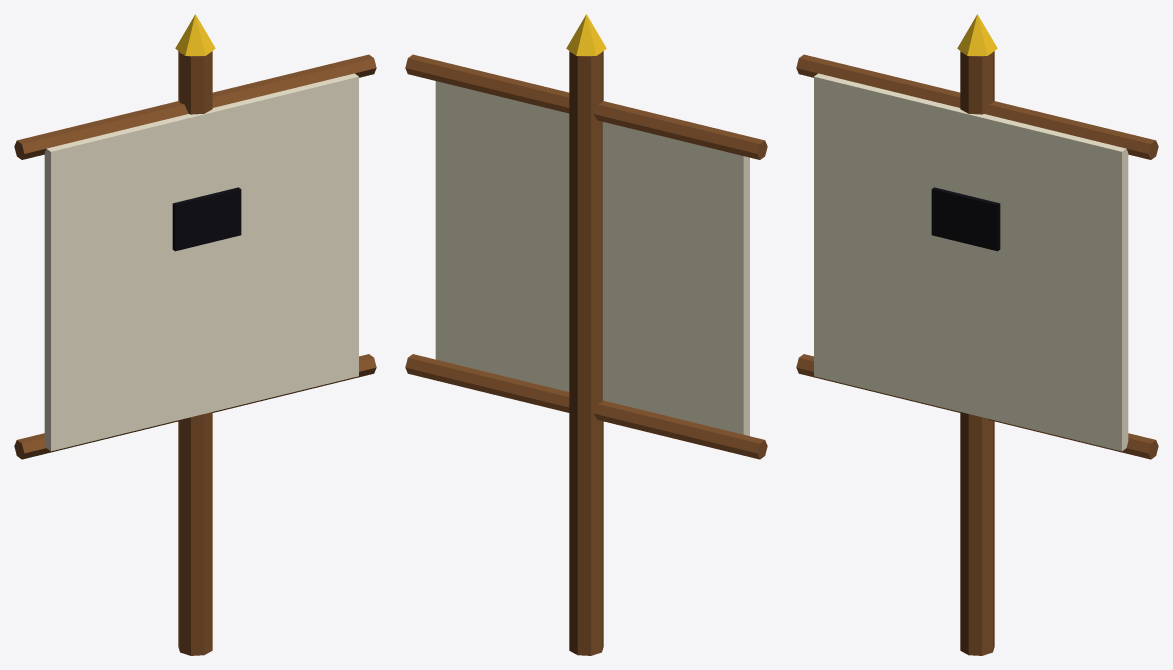
File: mast_sail.glb
3 renders of one model, left to right at view 1: azimuth 30°, elevation 25°; view 2: azimuth 150°, elevation 25°; view 3: azimuth 330°, elevation 25°, orthographic.
Visible parts, largest first — view 1: mast_sail; view 2: mast_sail; view 3: mast_sail.
Boxes of the visible parts, box(x1,y1,x2,y2) form: mast_sail: box(14, 14, 376, 655); mast_sail: box(405, 14, 767, 655); mast_sail: box(796, 14, 1158, 655).
Bounding box in the file's own units: 1.6 × 2.76 × 0.18.
